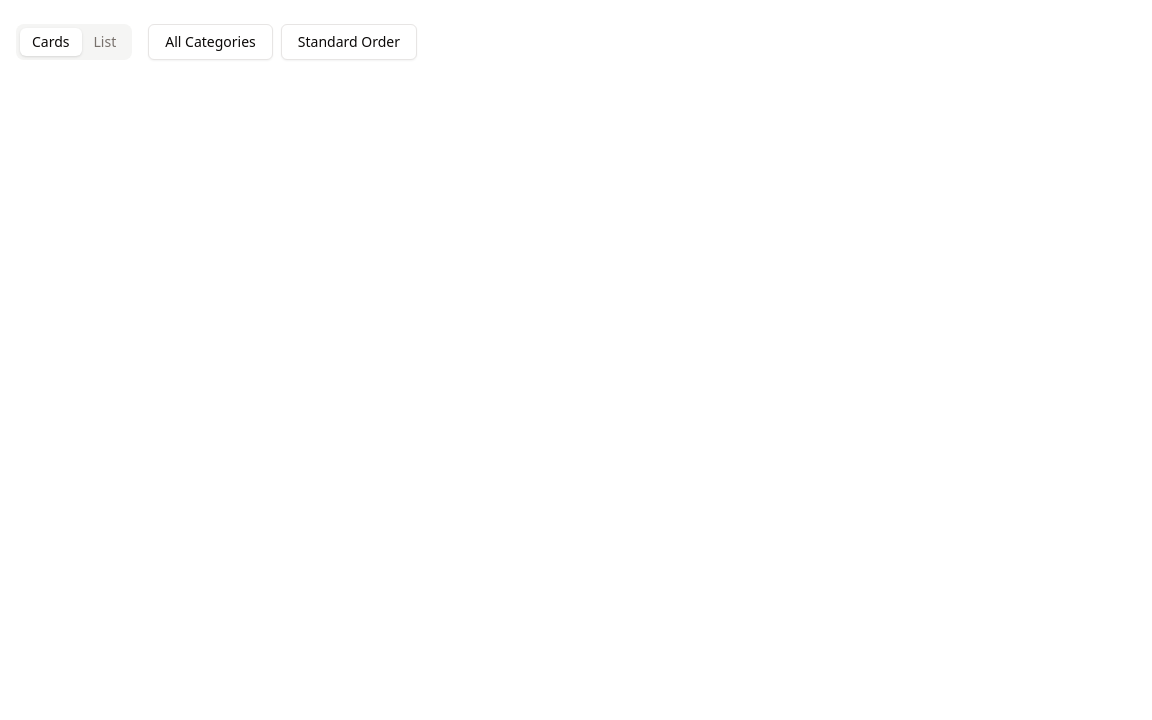
Test: Component: CardDeckOptions › should display 5 sorting options when the sorting selection dropdown is open
# Open dropdown
Click the button with test id "sorting-selection-trigger" at (349, 42), box 281,24 -> 417,60
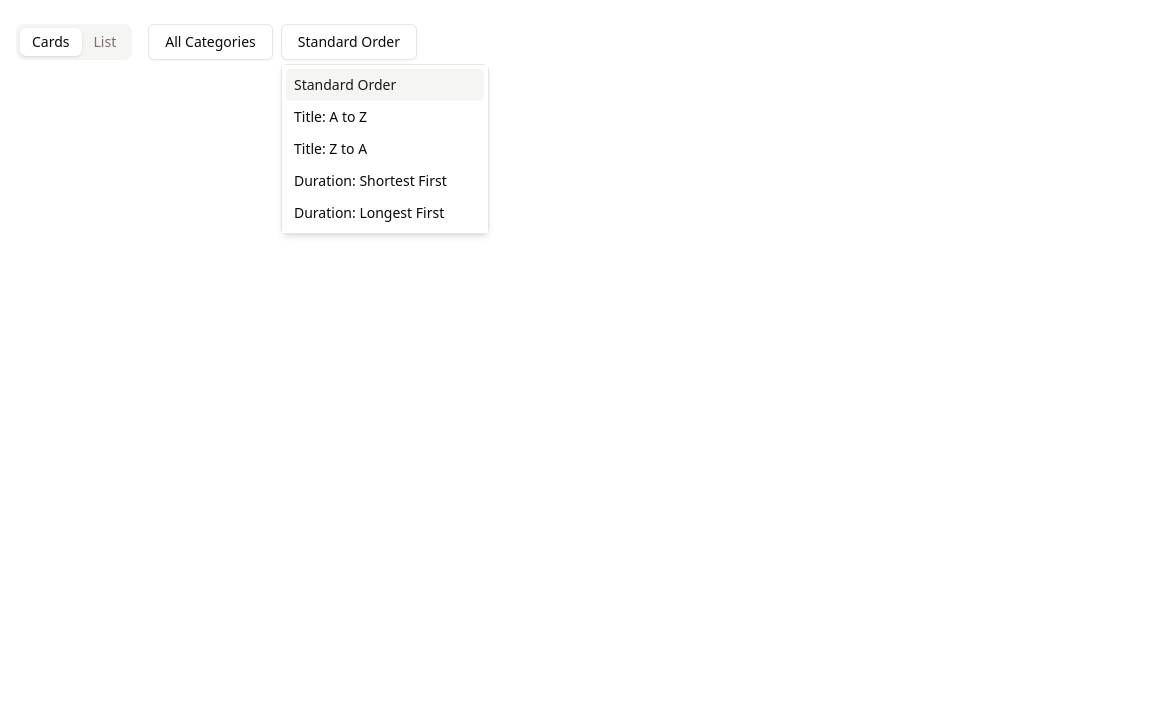
expect the number of options with test id "sorting-selection-option" is 5: met, box 286,69 -> 484,101; 294,107 -> 367,126; 294,139 -> 367,158; 294,171 -> 447,190; 294,203 -> 444,222
